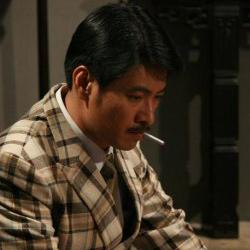smoking: (128, 125, 166, 148)
